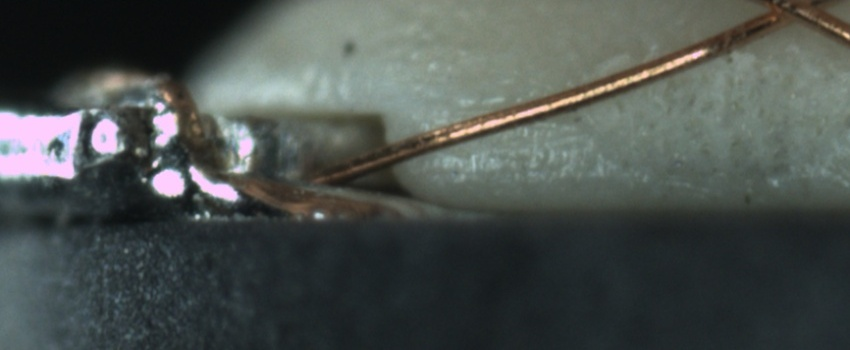CL: (748, 0, 828, 30)
DL: (426, 86, 576, 136)
TE: (151, 72, 214, 157)
